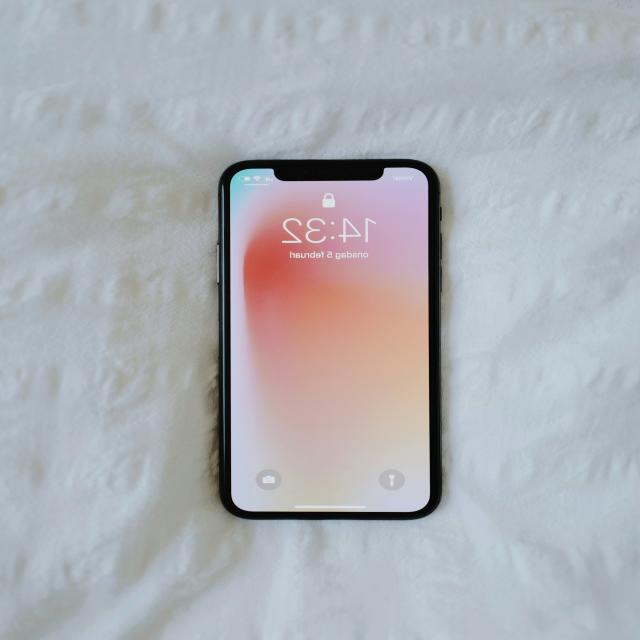Mobile: (175, 145, 458, 553)
